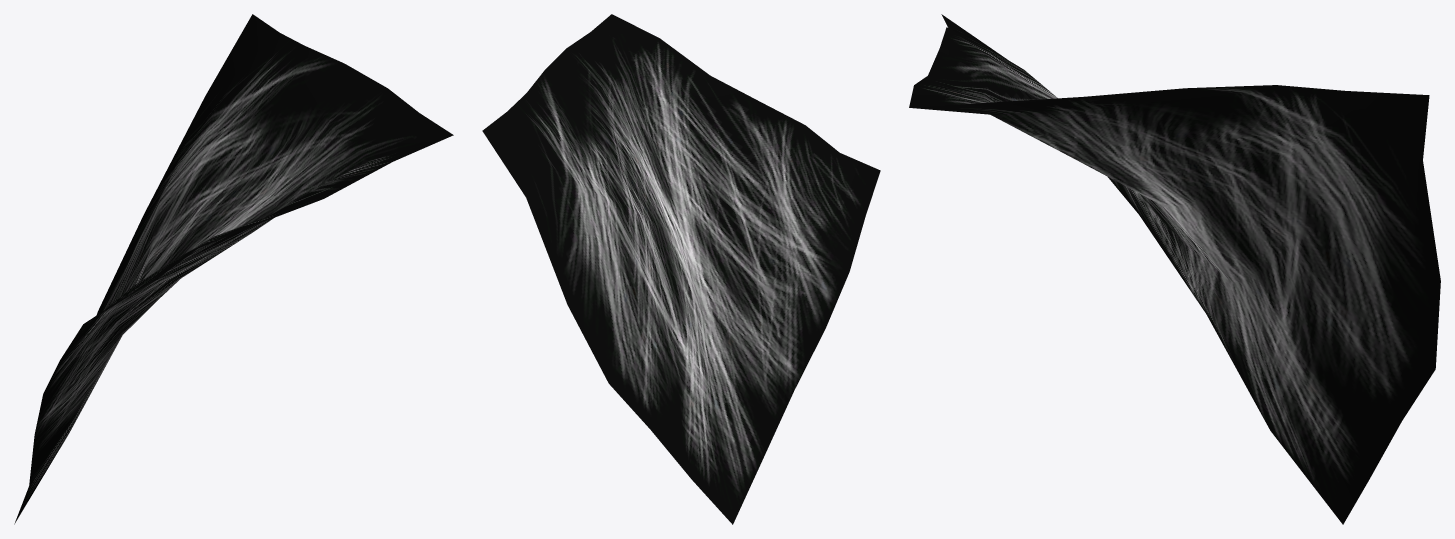
File: SWORDLIGHT20_PS-AREA01_CORNERWEB06.fbx
The picture shows the model from 3 angles, left to right: view 1: azimuth 30°, elevation 25°; view 2: azimuth 150°, elevation 25°; view 3: azimuth 270°, elevation 25°; orthographic projection. The views are drawn at different scales.
Visible parts, largest first — view 1: SWORDLIGHT20_PS-AREA01_CORNERWEB06; view 2: SWORDLIGHT20_PS-AREA01_CORNERWEB06; view 3: SWORDLIGHT20_PS-AREA01_CORNERWEB06.
Boxes of the visible parts, x1=… form: SWORDLIGHT20_PS-AREA01_CORNERWEB06: x1=14, y1=14, x2=453, y2=524; SWORDLIGHT20_PS-AREA01_CORNERWEB06: x1=482, y1=14, x2=880, y2=524; SWORDLIGHT20_PS-AREA01_CORNERWEB06: x1=909, y1=14, x2=1440, y2=524.
Size of the model in its own units: 48626 by 59543 by 45211.
1 material, 1 textured.
